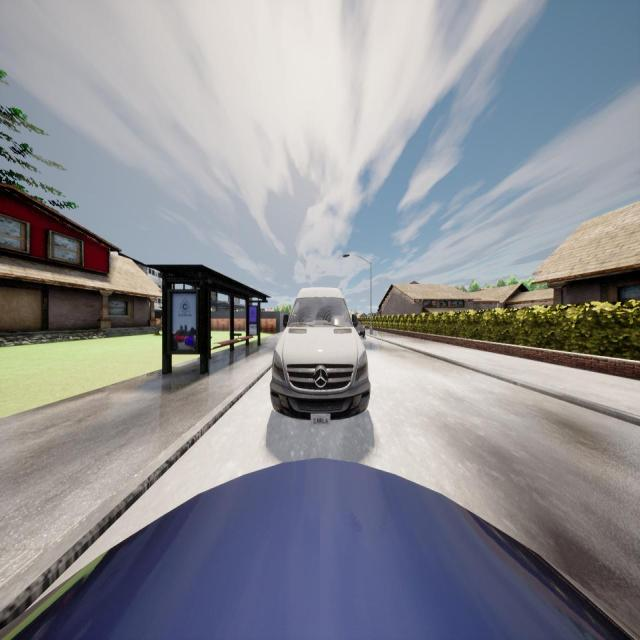Vehicle: (0, 455, 640, 640), (270, 287, 370, 419), (355, 322, 365, 338)
